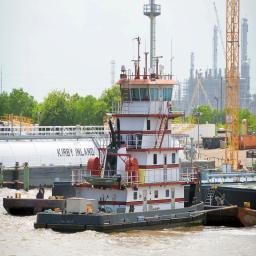tugboat: (33, 74, 209, 240)
